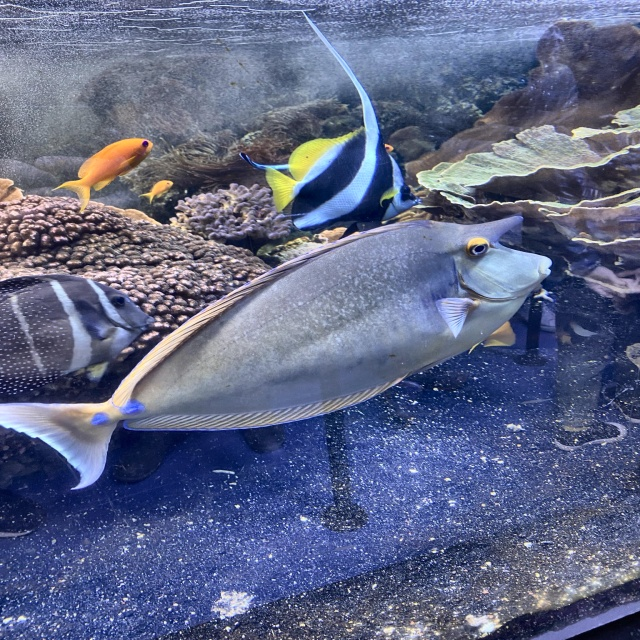fish: (0, 215, 552, 491), (0, 274, 152, 397), (264, 128, 422, 230), (53, 138, 152, 211), (140, 180, 172, 203)
